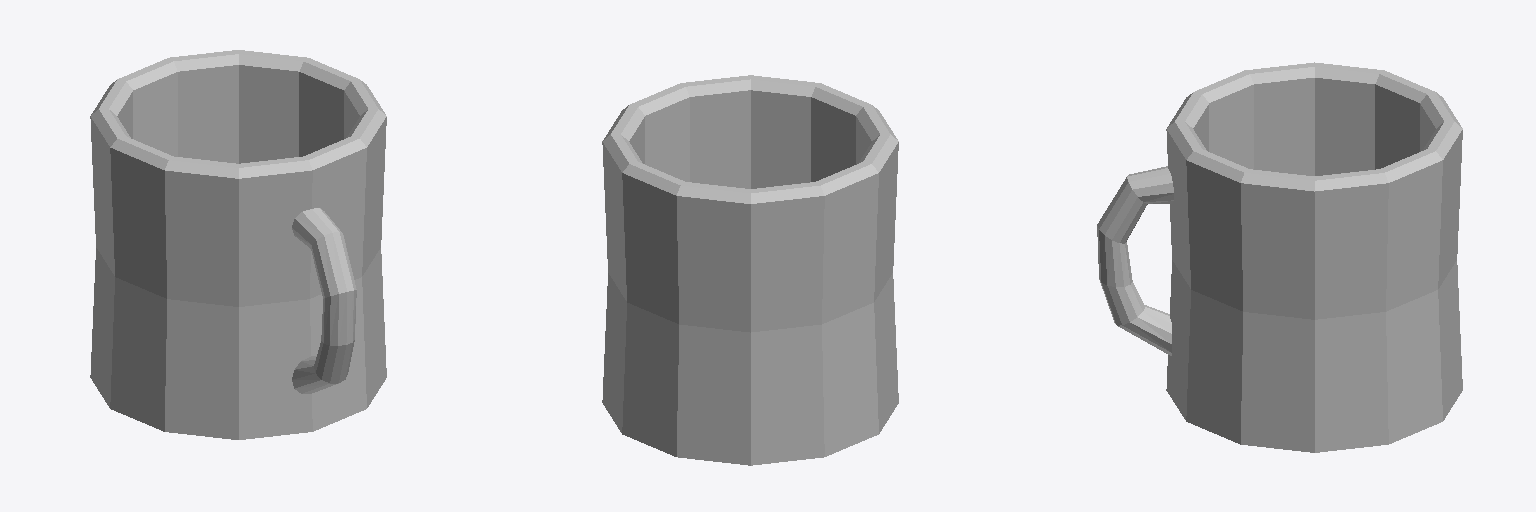
File: mug.obj
The picture shows the model from 3 angles: view 1: azimuth 30°, elevation 25°; view 2: azimuth 150°, elevation 25°; view 3: azimuth 270°, elevation 25°; orthographic projection.
Visible parts, largest first — view 1: Cylinder; view 2: Cylinder; view 3: Cylinder.
Boxes of the visible parts, box(x1,y1,x2,y2) form: Cylinder: box(90, 50, 386, 439); Cylinder: box(602, 75, 898, 465); Cylinder: box(1097, 62, 1462, 452).
Size of the model in its own units: 0.4928 by 0.4928 by 0.6081.